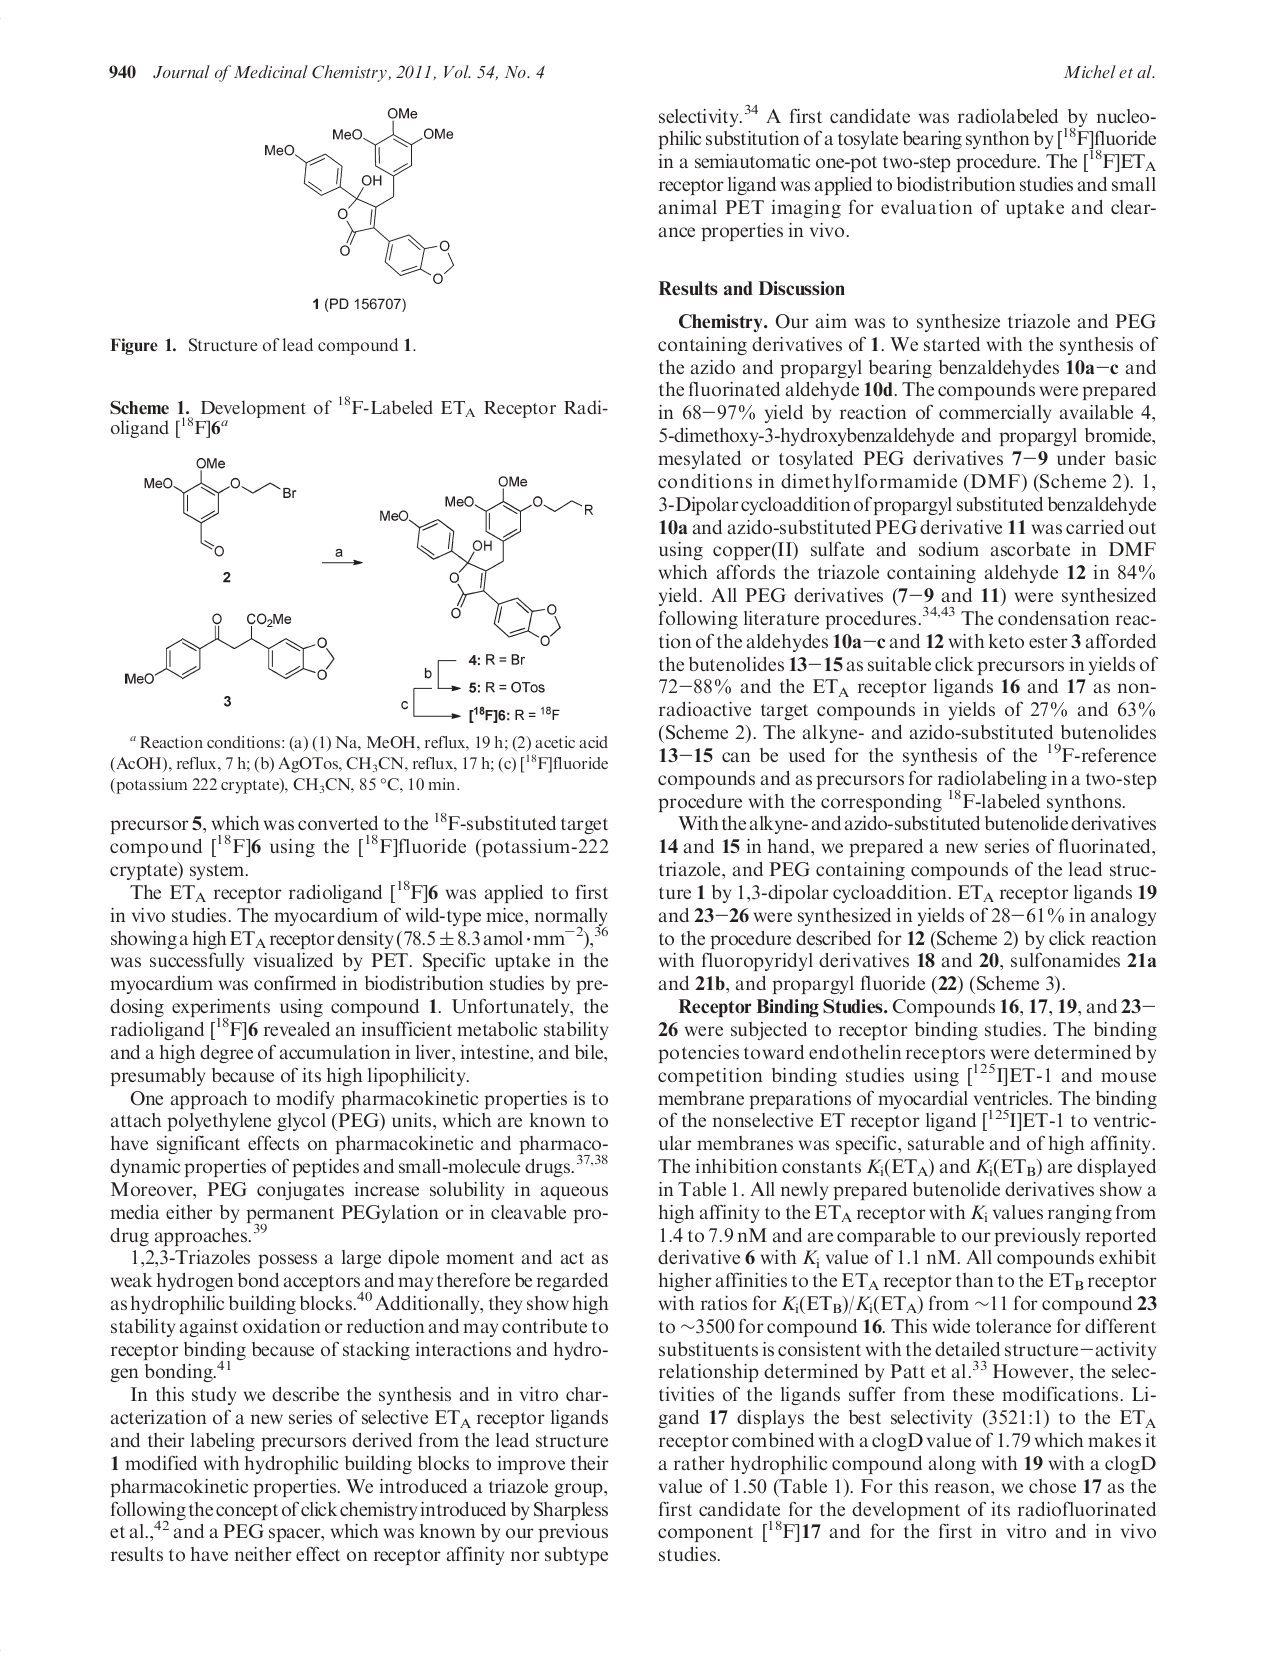exist_molecular: (375, 473, 593, 648), (262, 102, 457, 287), (121, 609, 336, 692), (140, 455, 297, 557)
